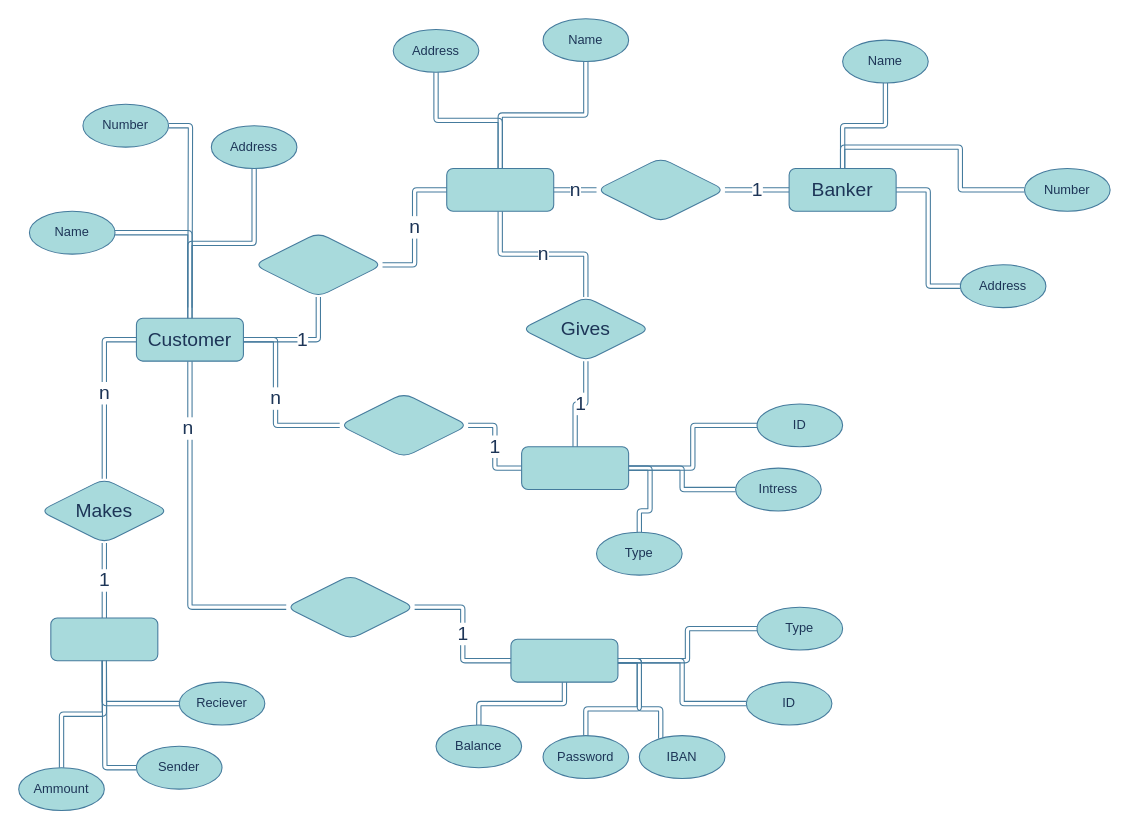
The diagram is 1129 pixels wide and 829 high, and some of its shapes have lost their labels. Here are the shapes that lost their labels. From the top down, the box of each, then its label:
(446, 167, 554, 211): Bank
(595, 157, 725, 222): Works for
(253, 232, 383, 297): Pays
(339, 392, 468, 457): Gets
(521, 446, 629, 490): Loan
(285, 574, 415, 639): Has
(50, 617, 158, 661): Transaction
(510, 638, 618, 682): Account
